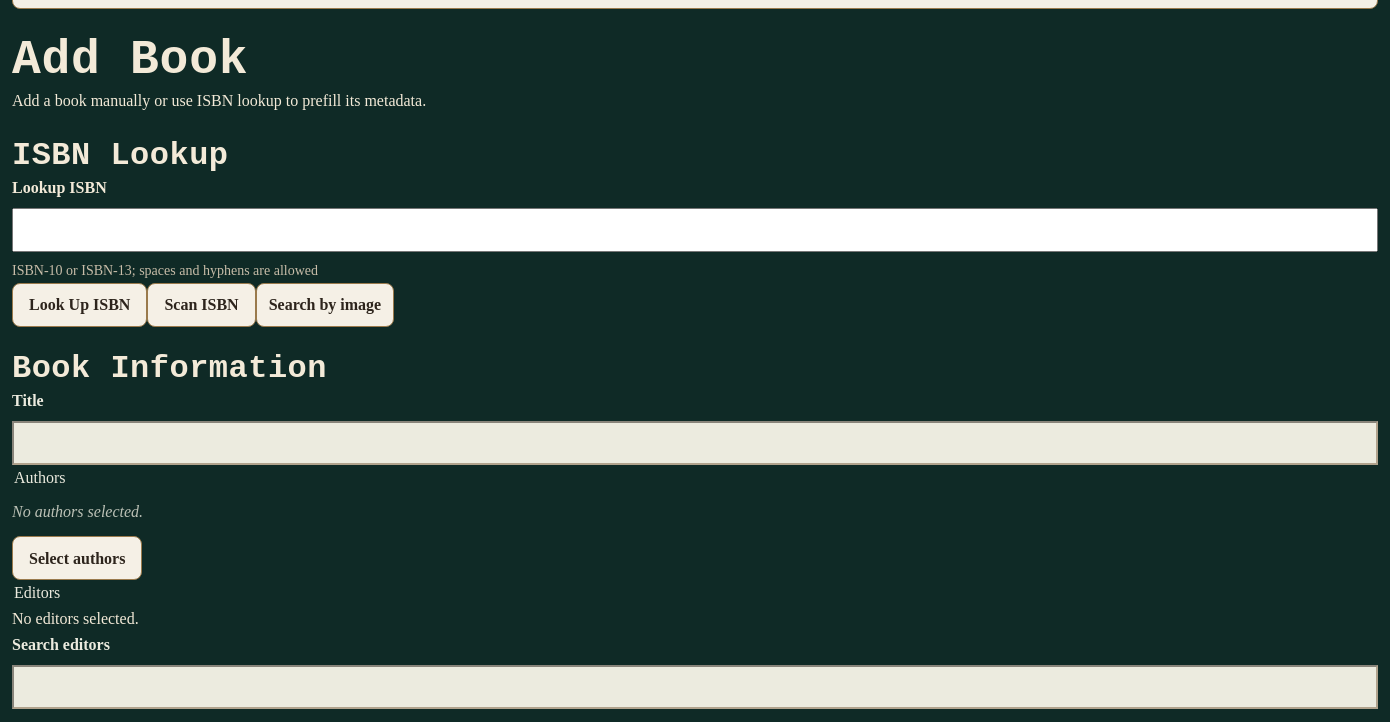
Test case: NewBookPage › applies an ISBN-not-applicable lookup draft without retaining an ISBN
In the field labelled "Lookup ISBN": (695, 230) [12, 208, 1378, 252], type "9780441172719"
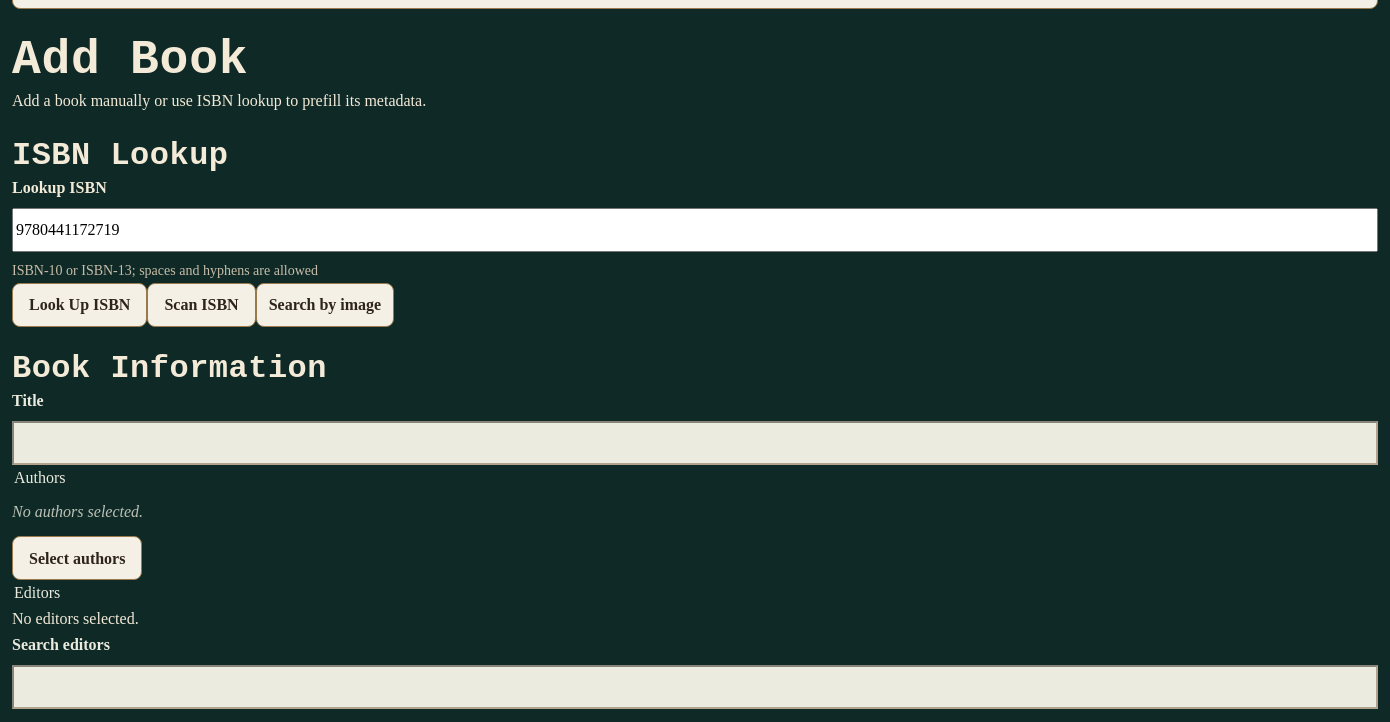
Click the button "Look Up ISBN": (80, 305) [12, 283, 147, 327]
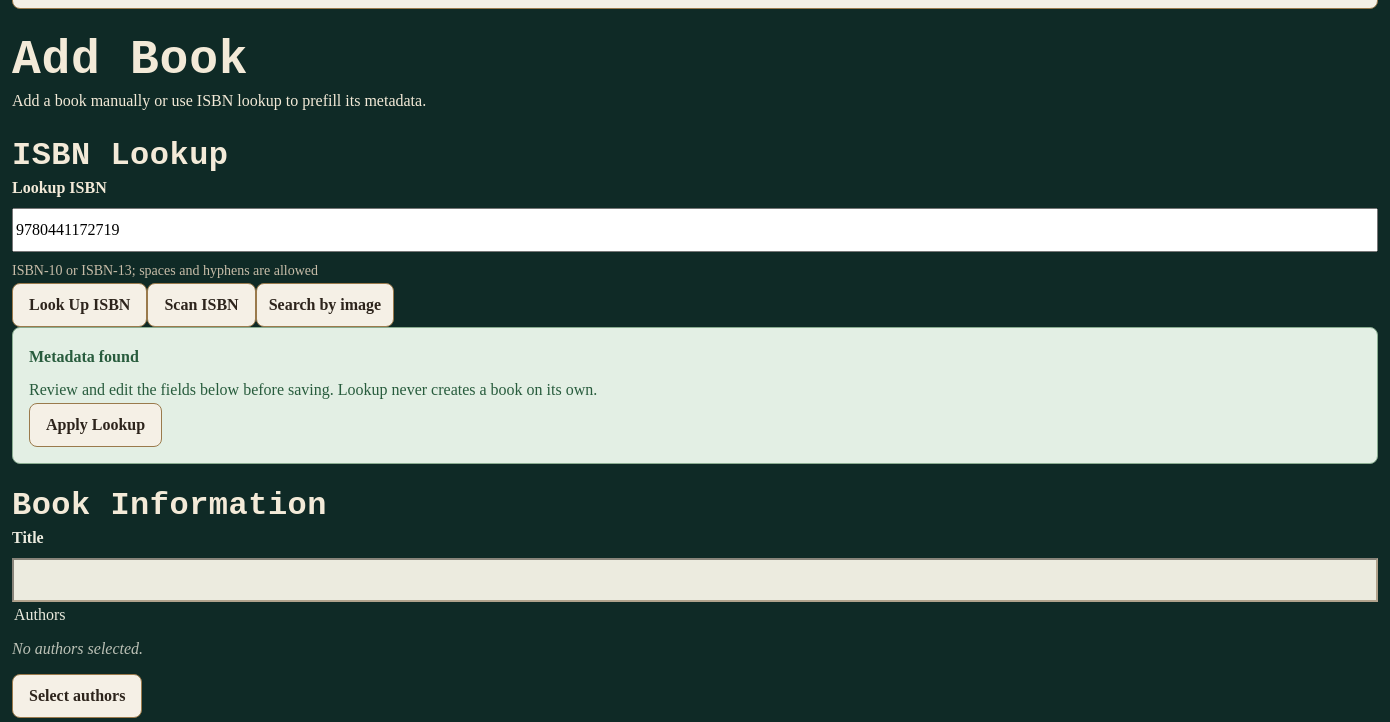
Click the button "Apply Lookup": (96, 425) [29, 403, 162, 447]
(page scrolled)
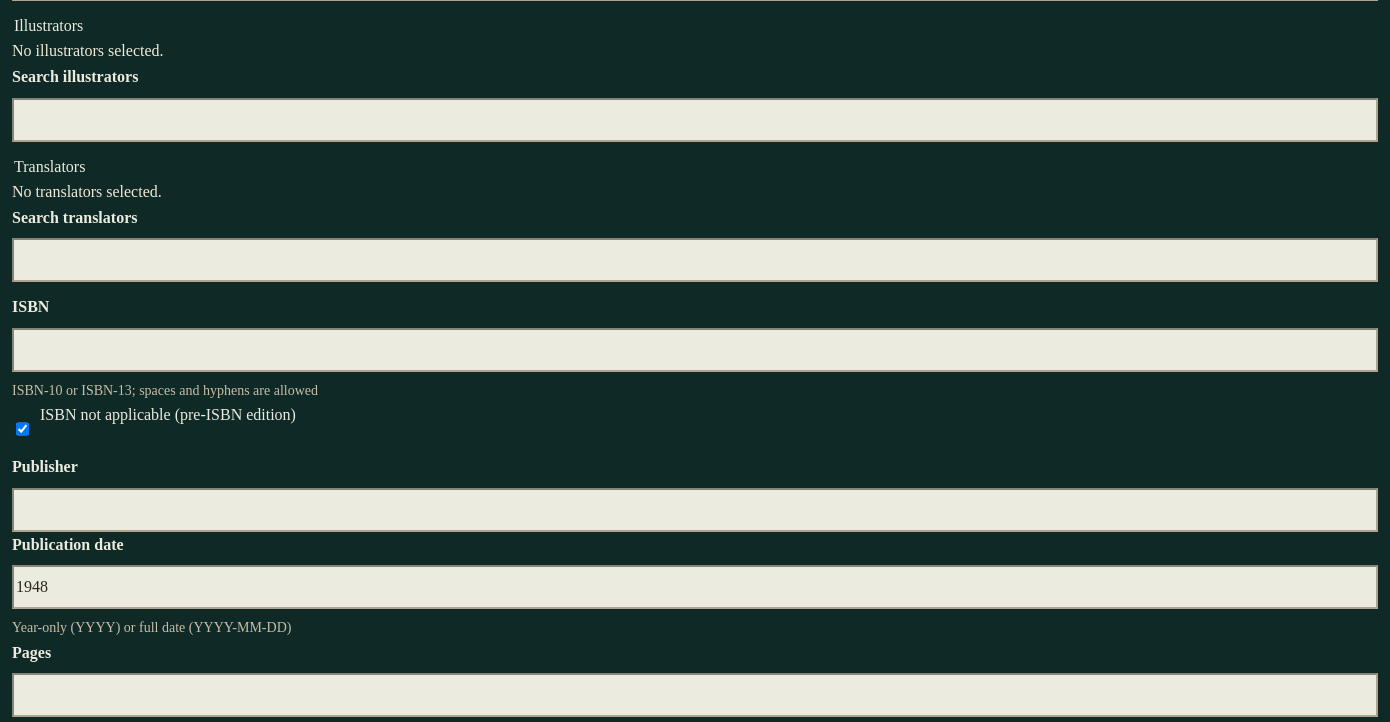
Check: the checkbox labelled "ISBN not applicable (pre-ISBN edition)" is checked, box [16, 407, 29, 451]
Check: the field labelled "ISBN" is disabled, box [12, 328, 1378, 372]
Check: the field labelled "ISBN" is empty, box [12, 328, 1378, 372]
